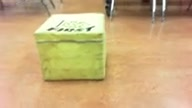cube: (34, 13, 106, 81)
